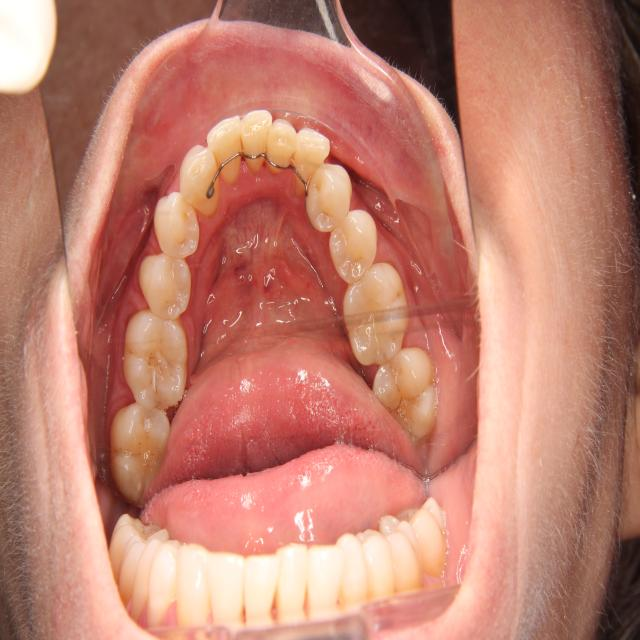tooth: (105, 397, 180, 511), (119, 303, 193, 413), (340, 262, 411, 369), (369, 343, 441, 448), (136, 247, 197, 327), (327, 204, 379, 290), (303, 158, 357, 238), (150, 188, 204, 262), (176, 139, 221, 220), (206, 111, 247, 186), (294, 122, 331, 204), (241, 101, 274, 175), (264, 111, 298, 175)
